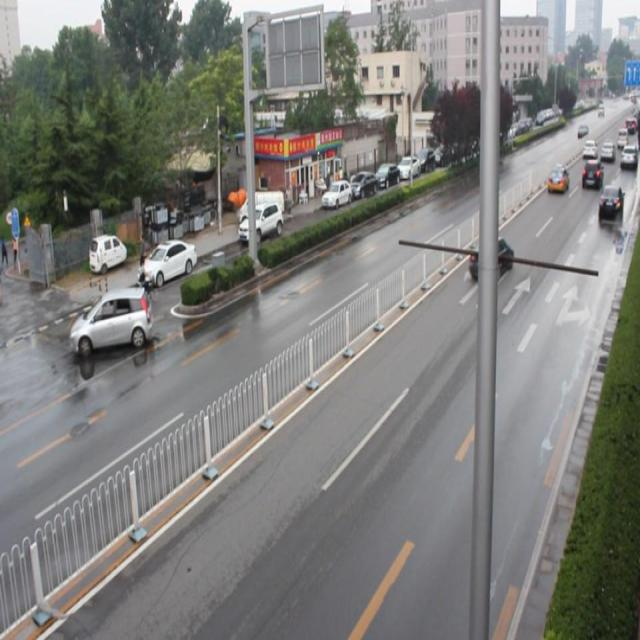car: (70, 286, 152, 358), (466, 230, 513, 280), (596, 182, 622, 220), (547, 162, 568, 195)
